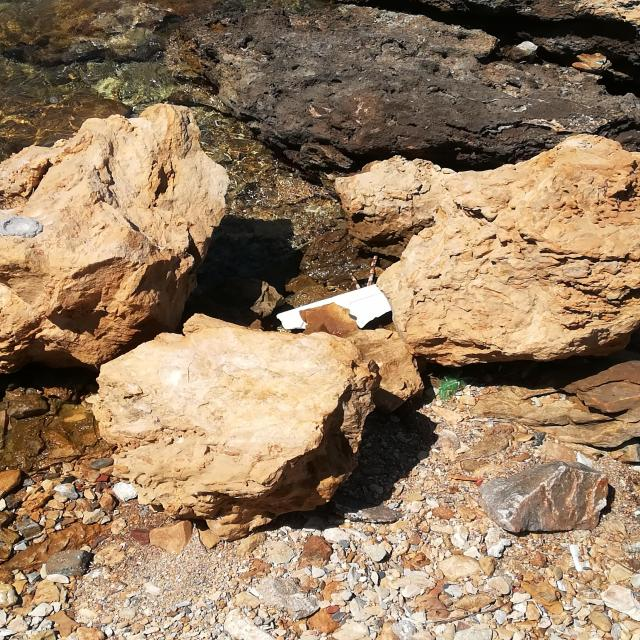Other plastic bottle: (277, 284, 391, 329)
Rope - strings: (438, 375, 465, 401)
